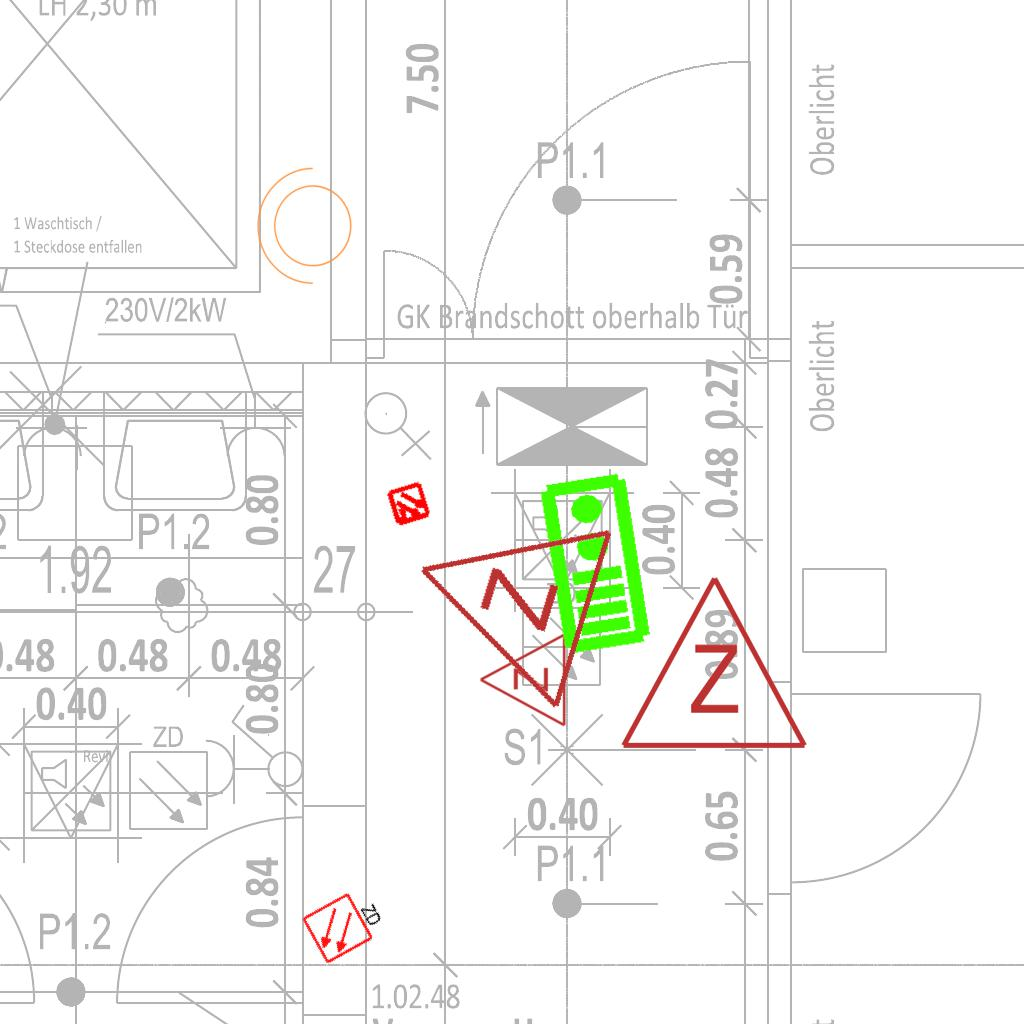Gegensprechanlage_mit_Video: (532, 468, 655, 658)
OT_Multisensormelder_(Kombination_RMO_WMD): (374, 470, 444, 540)
Scheinwerfer_fuer_Alarmbeleuchtung: (252, 163, 364, 295)
ZD_Melder_in_Zwischendecke_mit_Revisionsoeffnung_mind_40_x_40_cm: (299, 880, 392, 966)
Zimmersignalleuchte: (378, 474, 628, 720), (614, 563, 810, 763), (473, 632, 573, 730)
